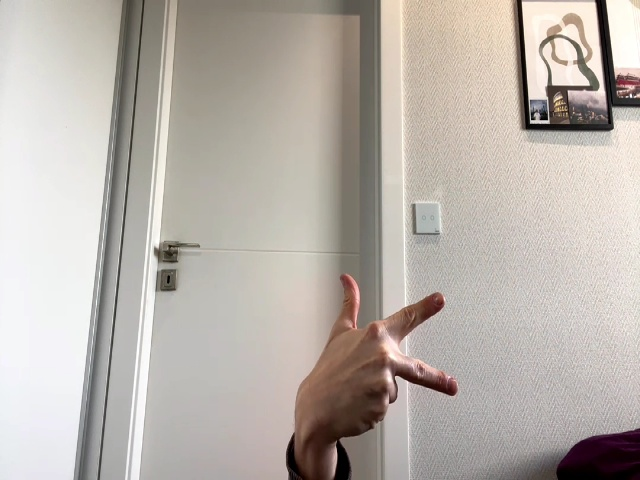K: (307, 274, 458, 435)
